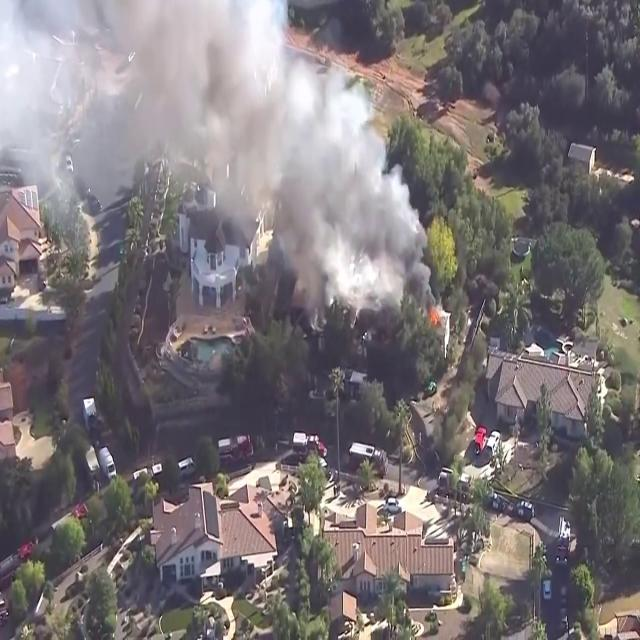Smoke: (0, 0, 441, 295)
